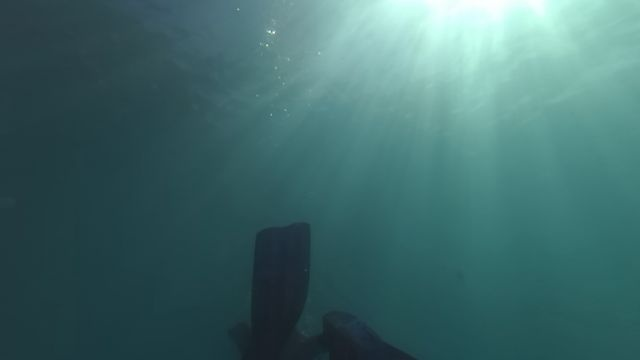Diver: (214, 213, 421, 356)
